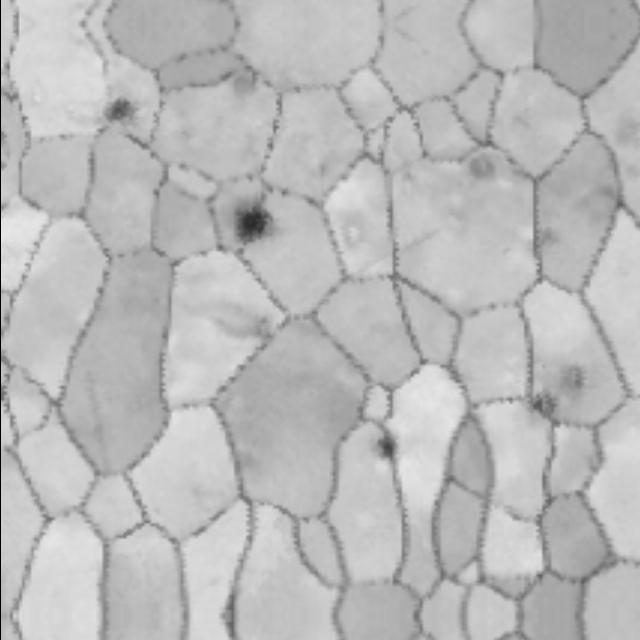good_void: (202, 295, 272, 347), (227, 196, 282, 250), (219, 47, 260, 104), (94, 90, 140, 134), (522, 384, 560, 426), (460, 149, 502, 185), (552, 364, 589, 402), (370, 429, 402, 464)
